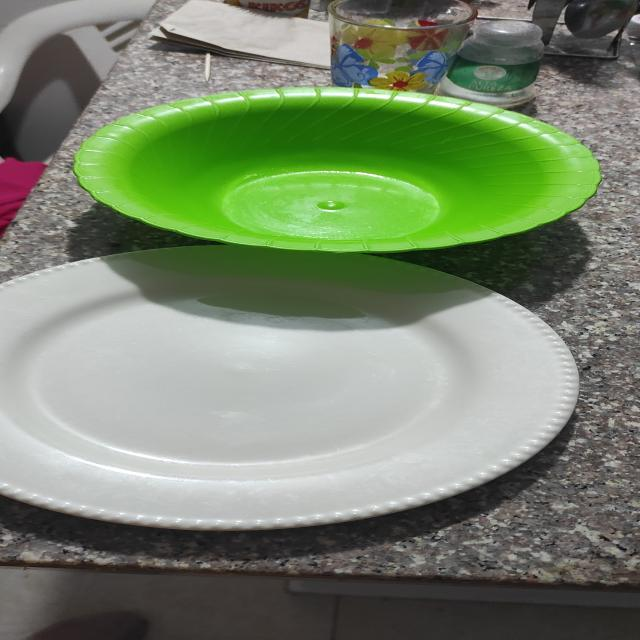non-organic waste: (32, 254, 570, 557)
